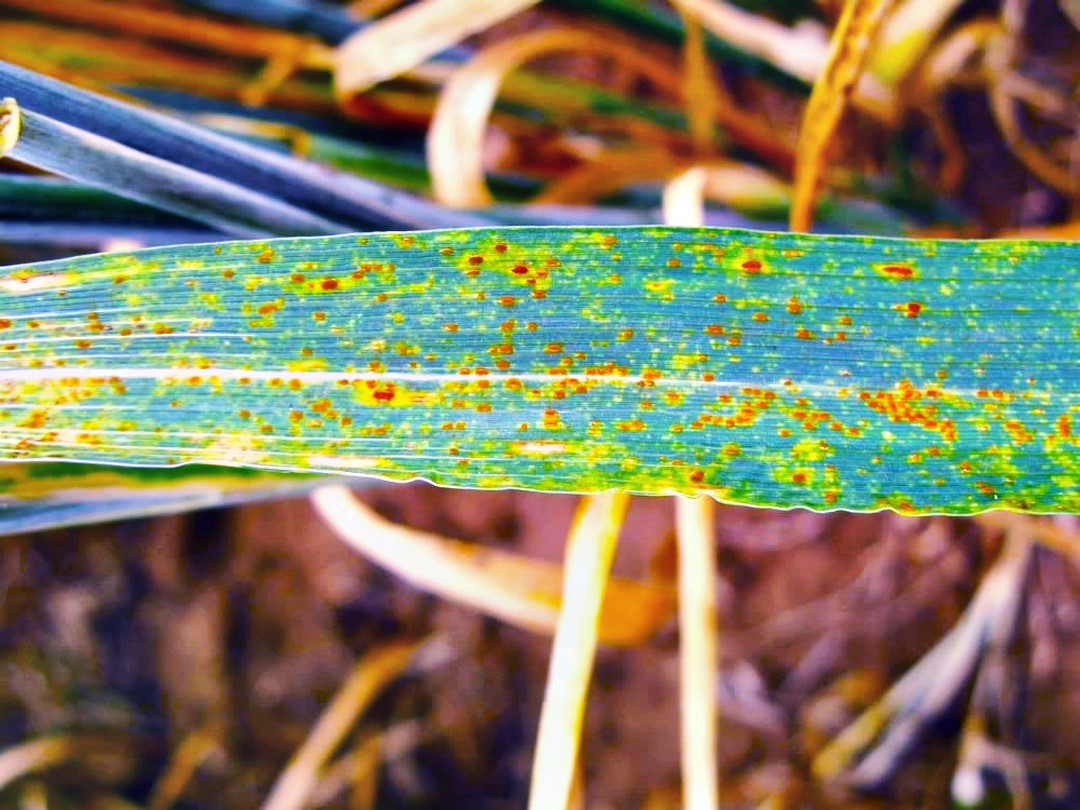Leaf Rust: (34, 227, 1014, 541)
